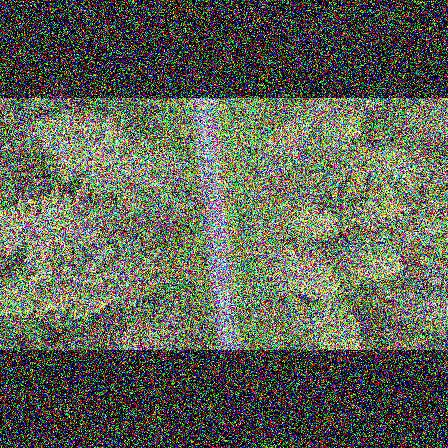Sick: (384, 150, 425, 190)
